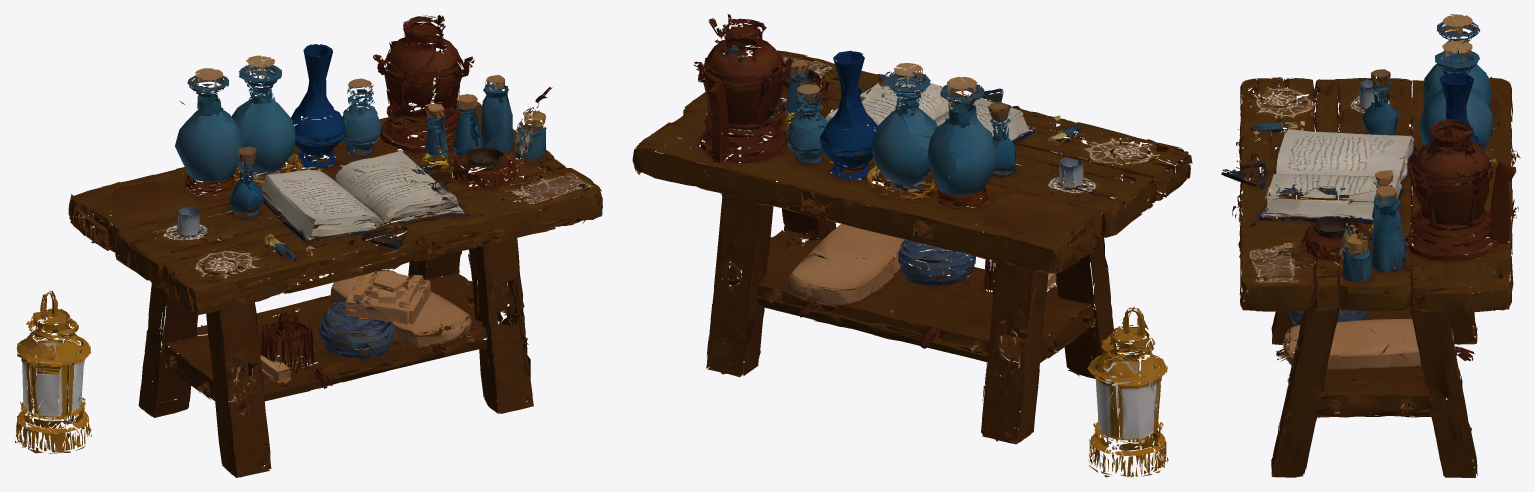
The model's file is sc_workbench.glb.
3 views of the same model, side by side, from view 1: azimuth 30°, elevation 25°; view 2: azimuth 150°, elevation 25°; view 3: azimuth 270°, elevation 25° (orthographic). The views are drawn at different scales.
Parts seen in each view (by area): view 1: model, lantern; view 2: model, lantern; view 3: model.
Part boxes in pixels (box(x1,y1,x2,y2)): model: box(68, 15, 602, 477); lantern: box(15, 290, 91, 453); model: box(632, 14, 1192, 444); lantern: box(1087, 307, 1168, 477); model: box(1221, 14, 1520, 477).
Size of the model in its own units: 2.23 by 1.46 by 1.14.
Materials: 1 (1 with a texture image).
